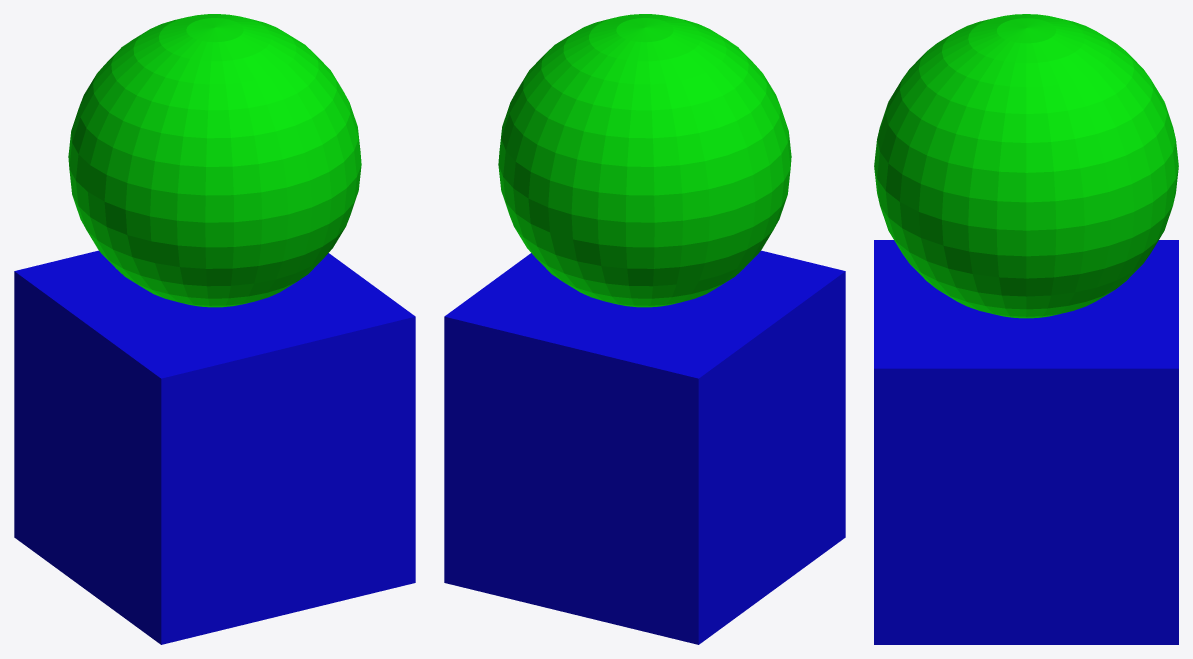
The model's file is modelo.glb.
3 renders of one model, left to right at view 1: azimuth 30°, elevation 25°; view 2: azimuth 150°, elevation 25°; view 3: azimuth 270°, elevation 25°, orthographic. The views are drawn at different scales.
Visible parts, largest first — view 1: Cube, Sphere; view 2: Cube, Sphere; view 3: Cube, Sphere.
Boxes of the visible parts, x1,y1,x2,y2 form: Cube: (14, 250, 415, 644); Sphere: (68, 14, 361, 307); Cube: (444, 250, 845, 644); Sphere: (498, 14, 791, 307); Cube: (874, 240, 1178, 644); Sphere: (874, 14, 1178, 318).
Bounding box in the file's own units: 2 × 4 × 2.
